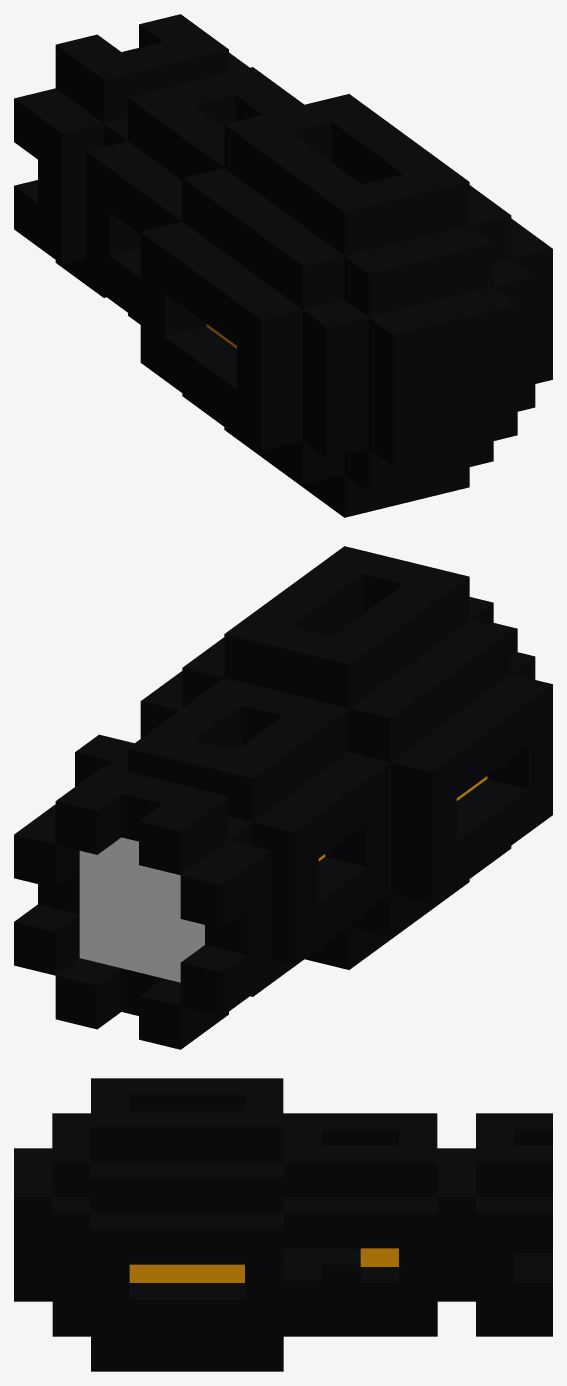
The model's file is RightEngineSmall1.FBX.
3 views of the same model, one above another, from view 1: azimuth 30°, elevation 25°; view 2: azimuth 150°, elevation 25°; view 3: azimuth 270°, elevation 25° (orthographic). The views are drawn at different scales.
Parts seen in each view (by area): view 1: RightEngineSmall1; view 2: RightEngineSmall1; view 3: RightEngineSmall1.
Part boxes in pixels (box(x1,y1,x2,y2)): RightEngineSmall1: box(14, 14, 552, 517); RightEngineSmall1: box(14, 546, 552, 1049); RightEngineSmall1: box(14, 1078, 552, 1371).
Bounding box in the file's own units: 8 × 14 × 7.
